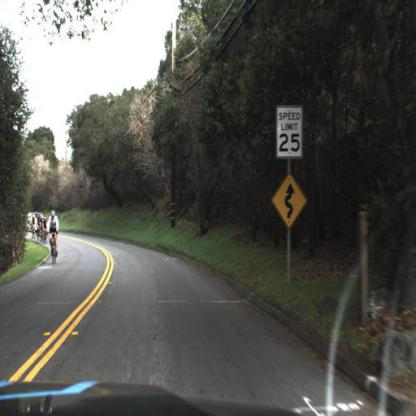biker: (49, 210, 62, 268), (30, 209, 38, 246), (41, 215, 49, 249), (32, 215, 37, 242)
